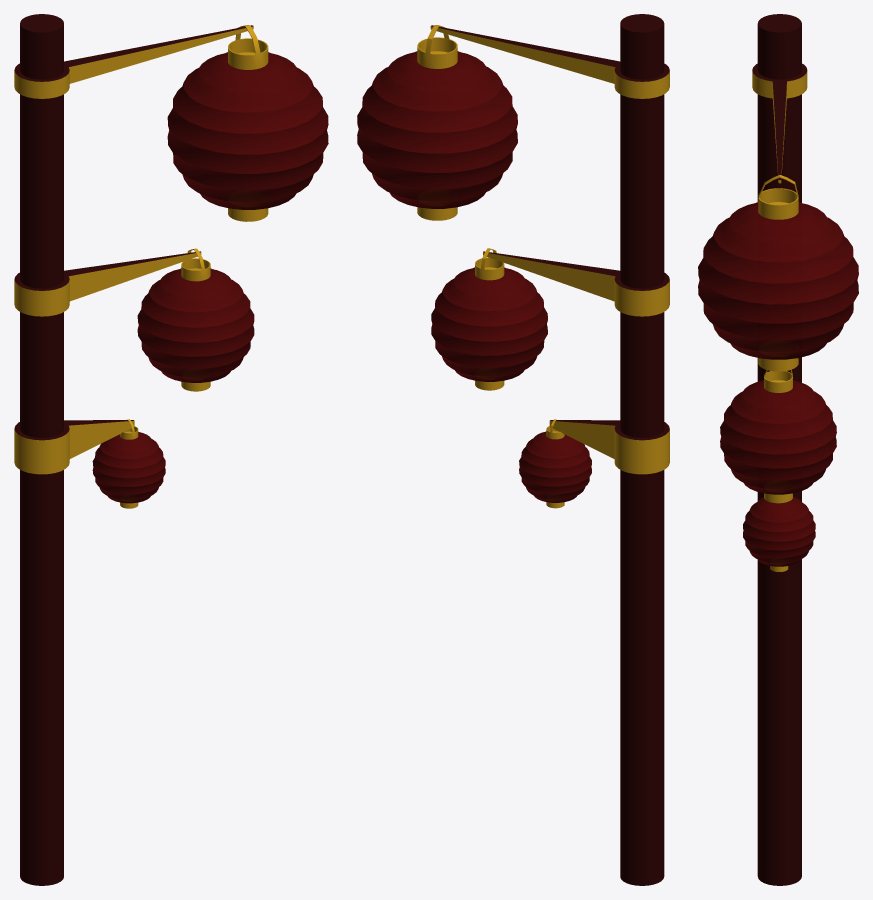
The model's file is faroles.fbx.
3 views of the same model, side by side, from view 1: azimuth 30°, elevation 25°; view 2: azimuth 150°, elevation 25°; view 3: azimuth 270°, elevation 25° (orthographic).
Parts seen in each view (by area): view 1: Medida; view 2: Medida; view 3: Medida.
Part boxes in pixels (bbox=[...]): Medida: bbox=[14, 14, 328, 885]; Medida: bbox=[357, 14, 669, 885]; Medida: bbox=[698, 14, 858, 885].
Bounding box in the file's own units: 125 × 342 × 58.34.
